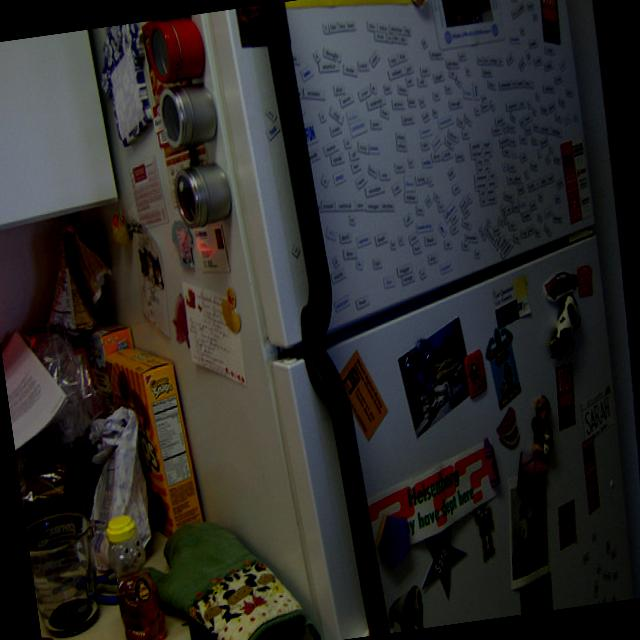Vehicle: (543, 266, 585, 302)
